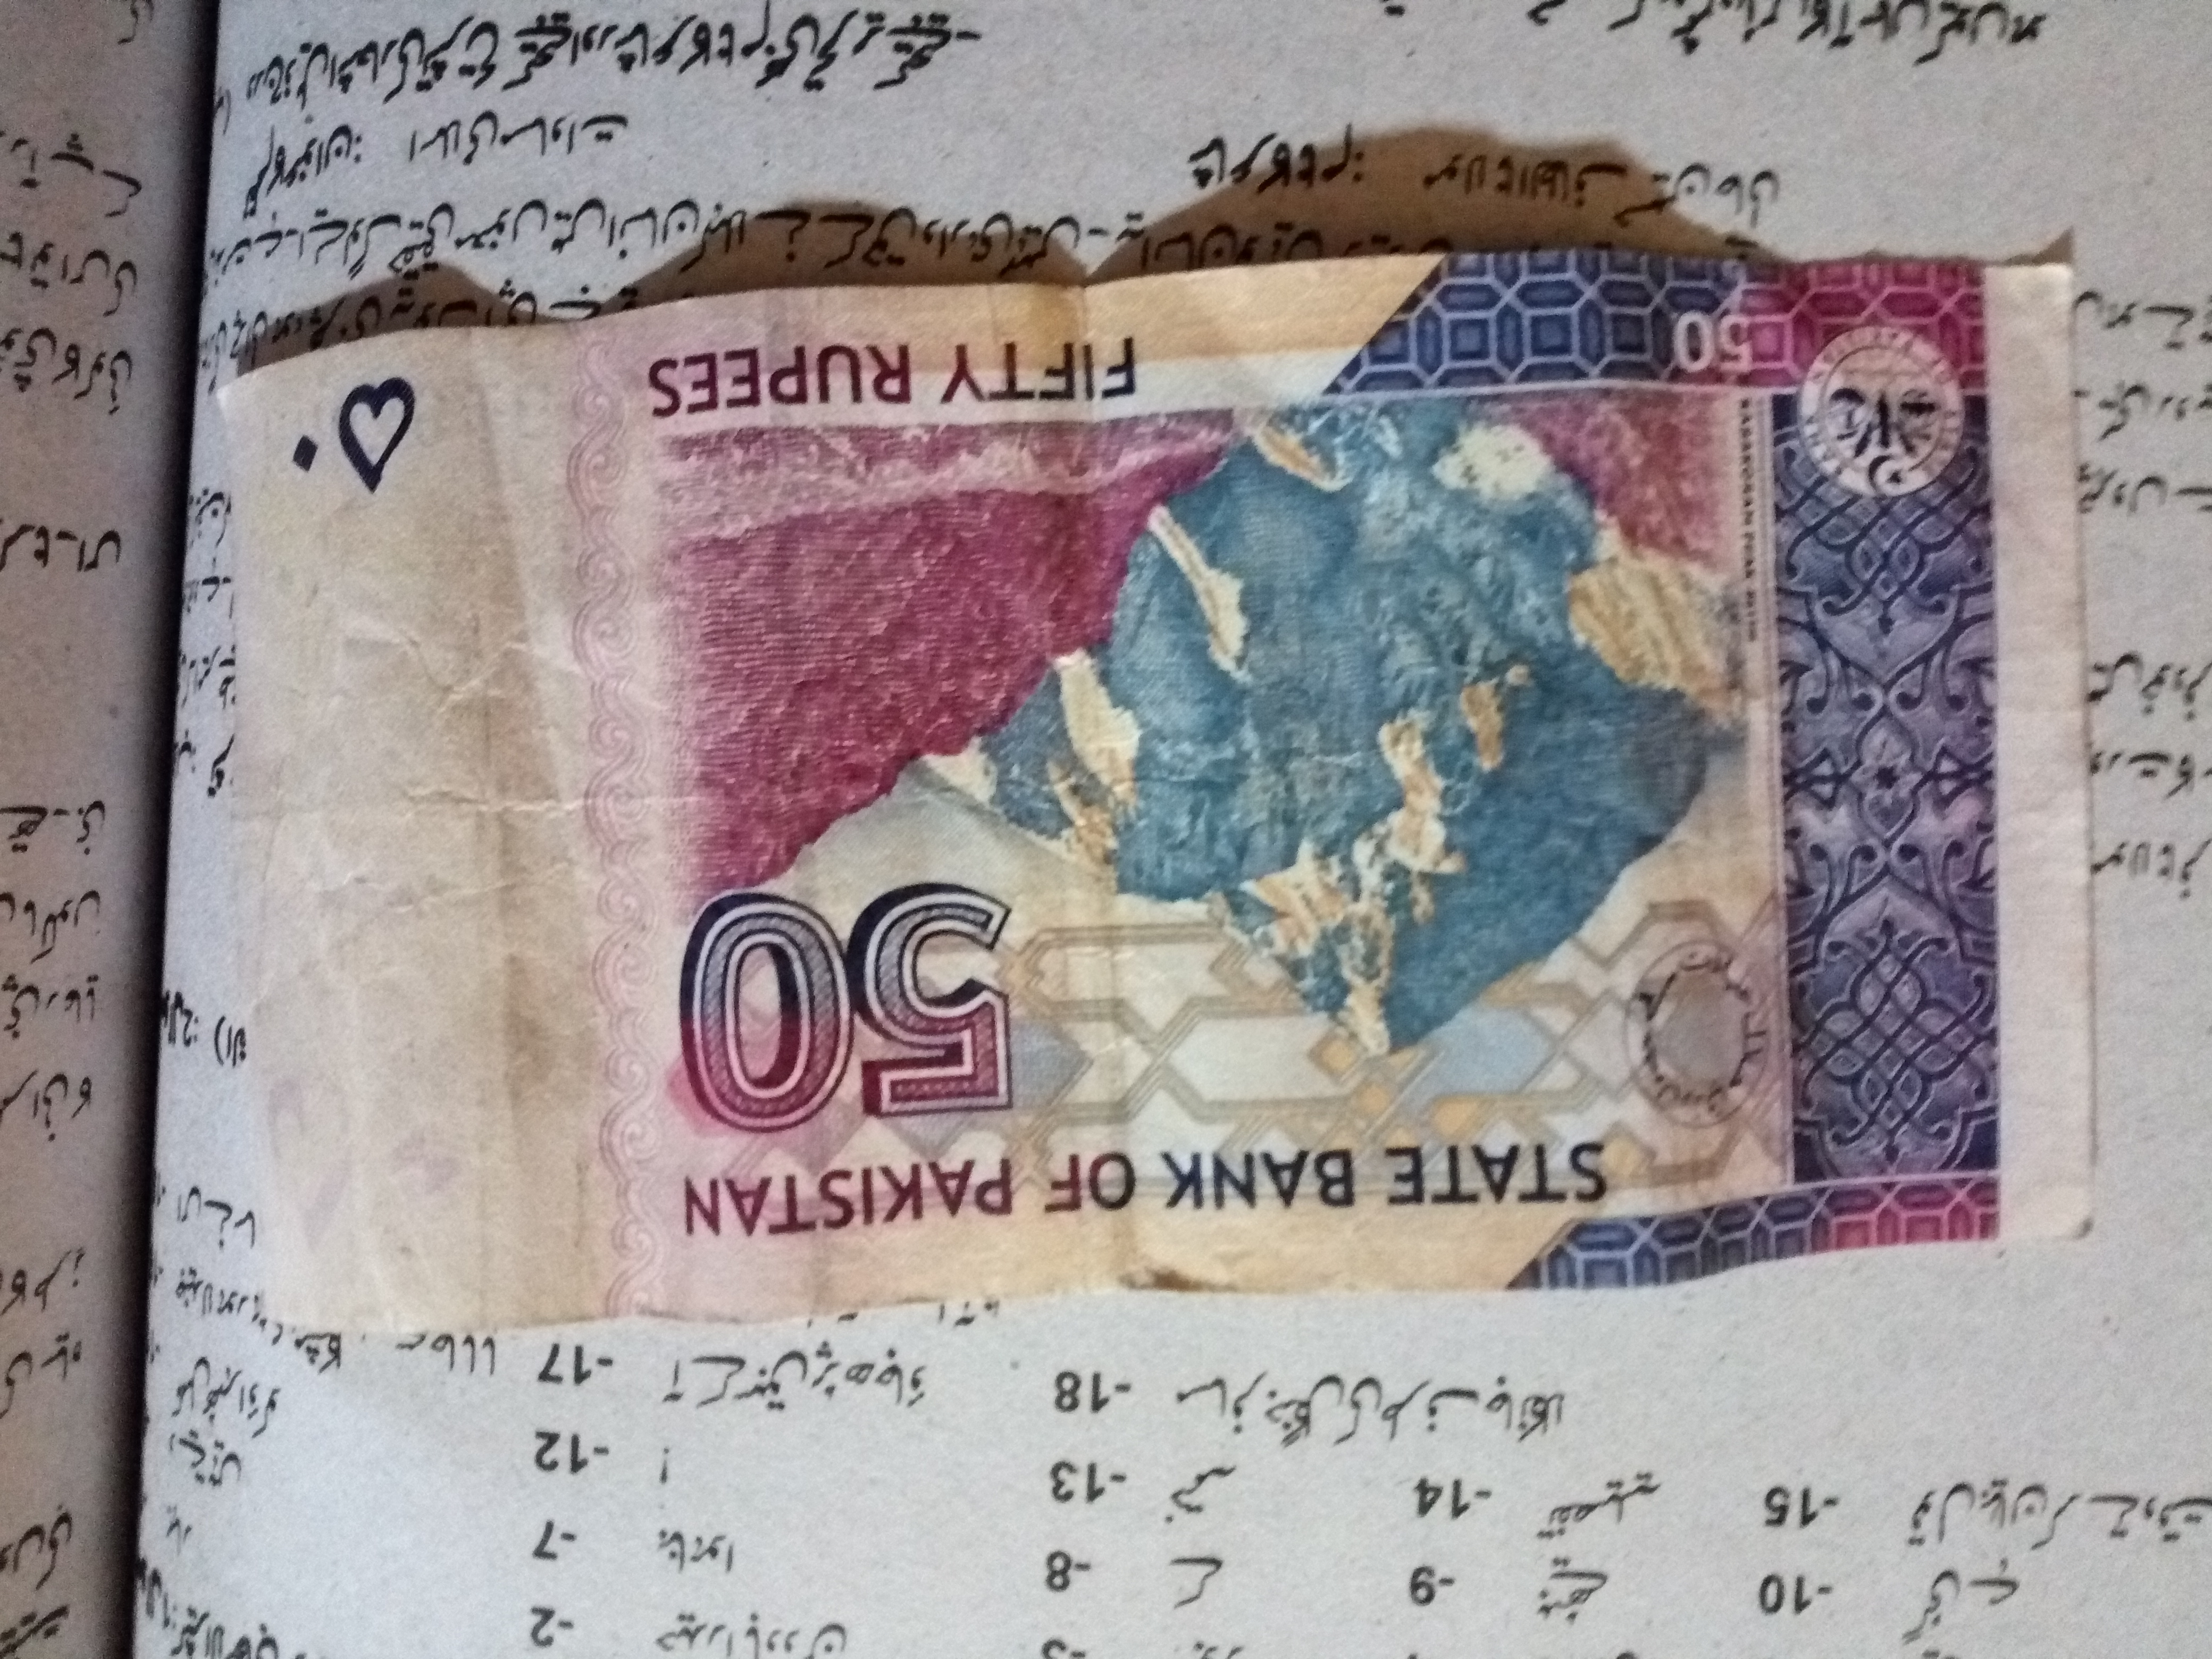50 rupee: (206, 272, 2134, 1323)
